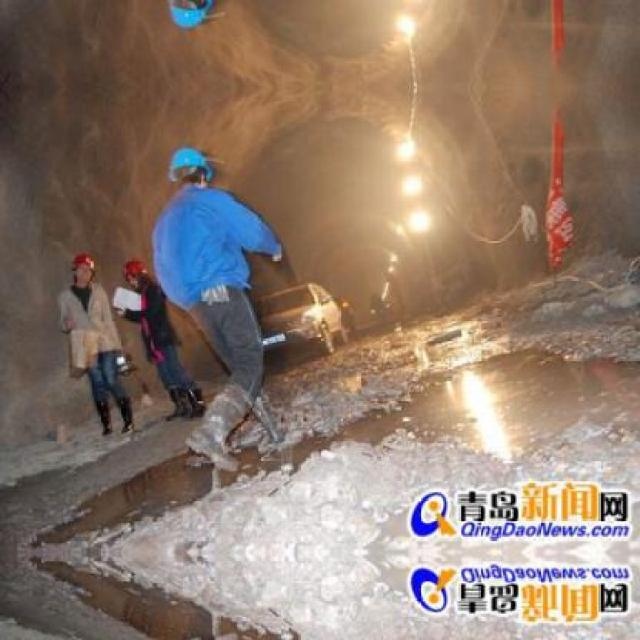helmet: (167, 144, 211, 188), (166, 0, 212, 29), (67, 251, 96, 284), (122, 258, 149, 287)
